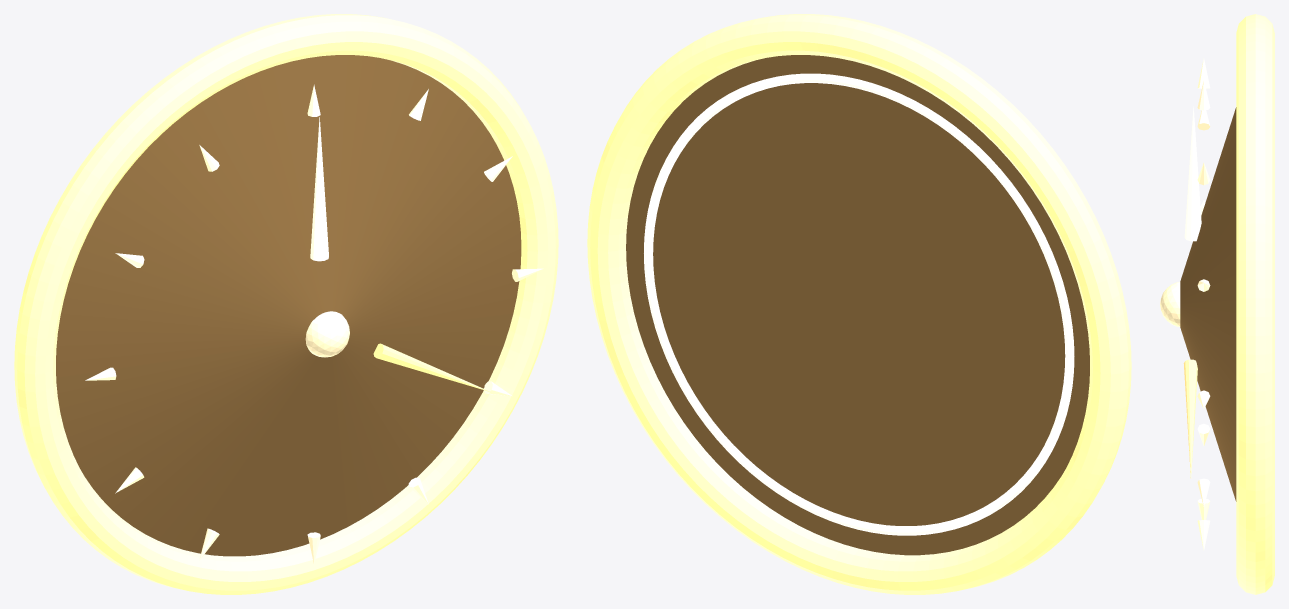
File: chronos.glb
The picture shows the model from 3 angles, left to right: view 1: azimuth 30°, elevation 25°; view 2: azimuth 150°, elevation 25°; view 3: azimuth 270°, elevation 25°; orthographic projection. The views are drawn at different scales.
Parts seen in each view (by area): view 1: chronos_part_000, chronos_part_001, chronos_part_017, chronos_part_015, chronos_part_016; view 2: chronos_part_000, chronos_part_001, chronos_part_002; view 3: chronos_part_001, chronos_part_000, chronos_part_015, chronos_part_016, chronos_part_017, chronos_part_003, chronos_part_008, chronos_part_007, chronos_part_014, chronos_part_013, chronos_part_009, chronos_part_004 (+1 smaller).
Boxes of the visible parts, x1,y1,x2,y2 form: chronos_part_000: (56, 55, 521, 556); chronos_part_001: (14, 14, 558, 594); chronos_part_017: (305, 311, 349, 357); chronos_part_015: (310, 117, 328, 261); chronos_part_016: (373, 343, 491, 392); chronos_part_000: (626, 55, 1089, 555); chronos_part_001: (587, 14, 1131, 594); chronos_part_002: (644, 73, 1074, 535); chronos_part_001: (1236, 14, 1274, 594); chronos_part_000: (1180, 107, 1236, 501); chronos_part_015: (1184, 106, 1201, 241); chronos_part_016: (1183, 359, 1197, 478); chronos_part_017: (1160, 281, 1180, 327); chronos_part_003: (1197, 80, 1210, 110); chronos_part_008: (1197, 520, 1210, 550); chronos_part_007: (1197, 478, 1210, 506); chronos_part_014: (1197, 58, 1210, 88); chronos_part_013: (1197, 110, 1210, 130); chronos_part_009: (1197, 499, 1210, 519); chronos_part_004: (1197, 163, 1210, 185).
Bounding box in the file's own units: 2.65 × 2.65 × 0.5241.
